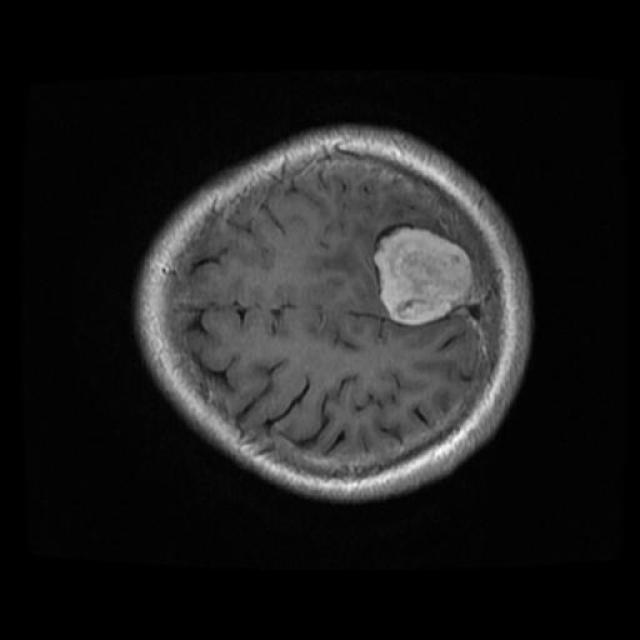Meningioma: (374, 227, 479, 325)
